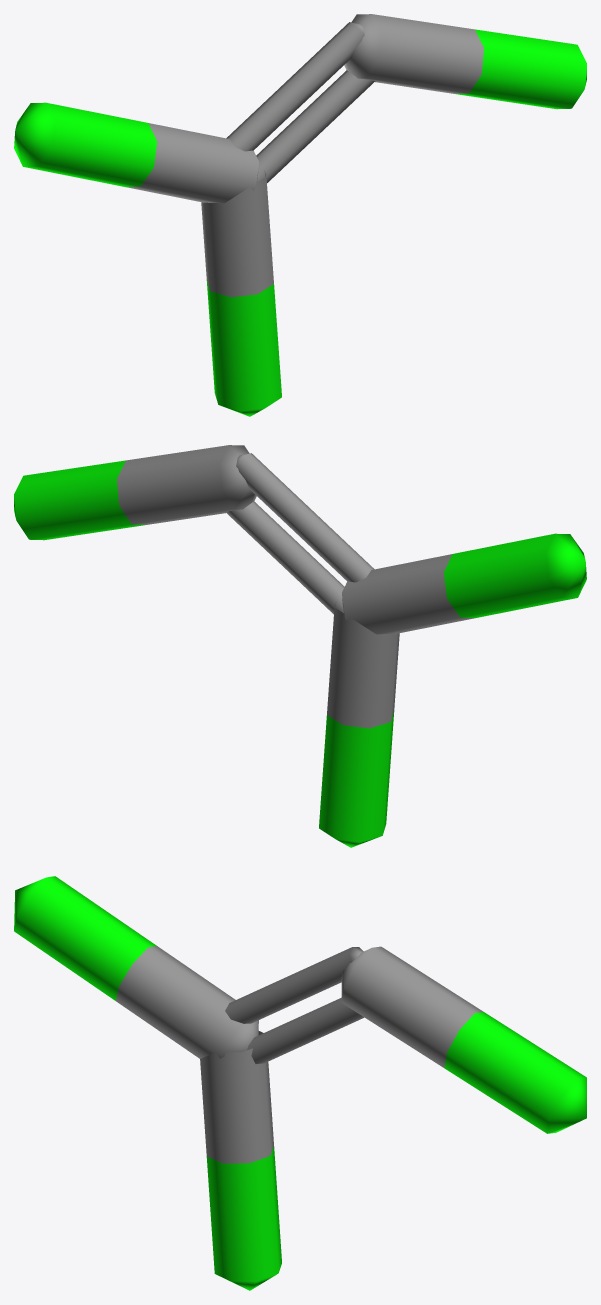
Rendered from trichloro.glb.
3 renders of one model, top to bottom at view 1: azimuth 30°, elevation 25°; view 2: azimuth 150°, elevation 25°; view 3: azimuth 330°, elevation 25°, orthographic.
Visible parts, largest first — view 1: node-geom1; view 2: node-geom1; view 3: node-geom1.
Part boxes in pixels (<box>): node-geom1: <box>14,14,586,416</box>; node-geom1: <box>14,445,586,847</box>; node-geom1: <box>14,876,586,1290</box>.
Bounding box in the file's own units: 4.72 × 2.94 × 0.5003.
